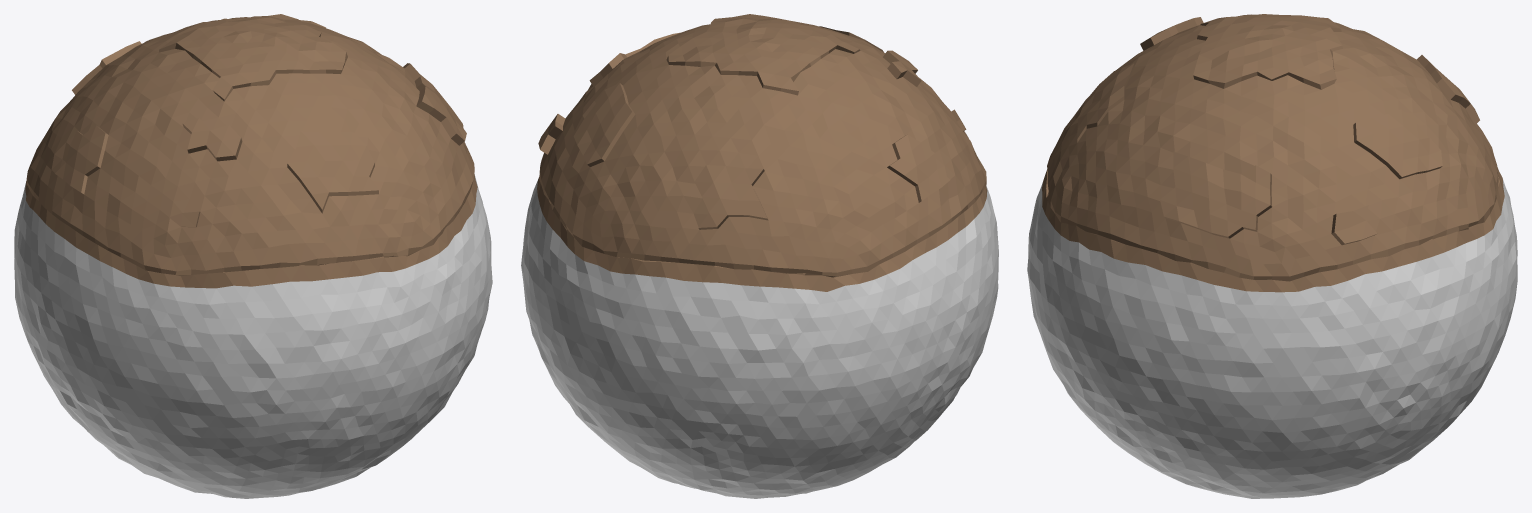
3 renders of one model, left to right at view 1: azimuth 30°, elevation 25°; view 2: azimuth 150°, elevation 25°; view 3: azimuth 270°, elevation 25°, orthographic.
Parts seen in each view (by area): view 1: Icosphere; view 2: Icosphere; view 3: Icosphere.
Part boxes in pixels (box(x1,y1,x2,y2)): Icosphere: box(14, 14, 492, 498); Icosphere: box(521, 14, 998, 498); Icosphere: box(1027, 14, 1517, 498).
Bounding box in the file's own units: 835 × 847 × 847.
